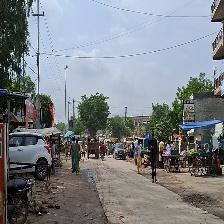Bike: (67, 133, 83, 177), (100, 142, 107, 160)
Car: (7, 134, 56, 180), (85, 136, 101, 161), (113, 141, 129, 160)
Human: (147, 128, 161, 186), (135, 139, 143, 175)
Obstacle: (7, 181, 36, 220)
Road: (86, 157, 223, 223)
